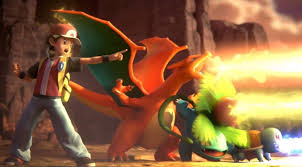charizard: (59, 26, 211, 165)
